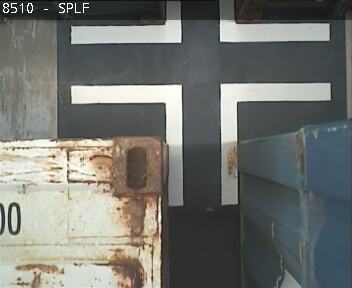groundmarker_1: (70, 82, 331, 205)
